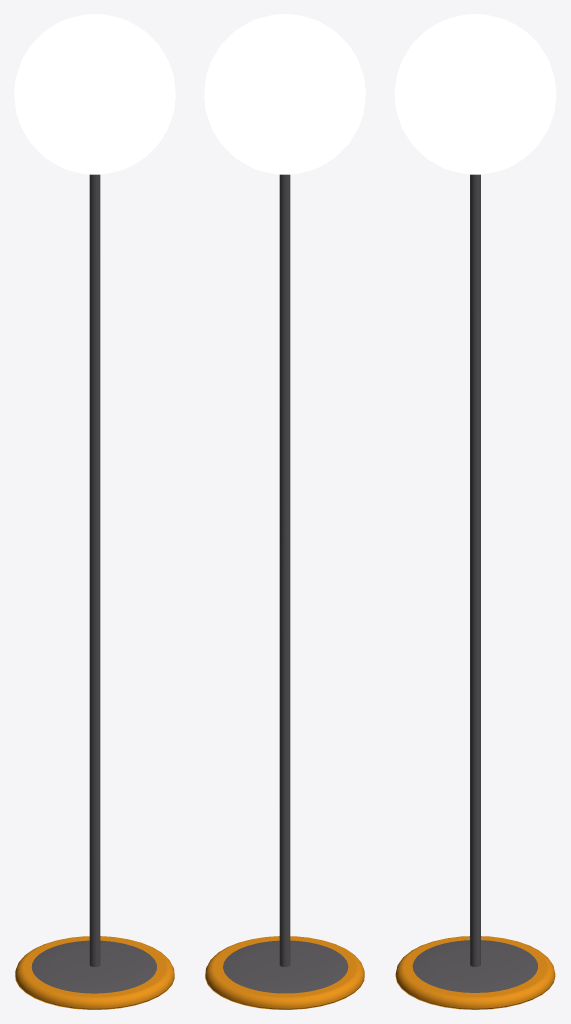
Rendered from lamparaDePie.glb.
3 views of the same model, side by side, from view 1: azimuth 30°, elevation 25°; view 2: azimuth 150°, elevation 25°; view 3: azimuth 270°, elevation 25° (orthographic).
Parts seen in each view (by area): view 1: NurbsPath.004, NurbsPath.001, NurbsPath.005, Circle.001; view 2: NurbsPath.004, NurbsPath.001, NurbsPath.005, Circle.001; view 3: NurbsPath.004, NurbsPath.001, NurbsPath.005, Circle.001.
Boxes of the visible parts, left/top/right/bottom form: NurbsPath.004: left=14, top=14, right=175, bottom=174; NurbsPath.001: left=89, top=174, right=100, bottom=966; NurbsPath.005: left=31, top=940, right=156, bottom=993; Circle.001: left=15, top=936, right=174, bottom=1009; NurbsPath.004: left=204, top=14, right=365, bottom=174; NurbsPath.001: left=279, top=174, right=290, bottom=966; NurbsPath.005: left=223, top=940, right=348, bottom=993; Circle.001: left=205, top=936, right=364, bottom=1009; NurbsPath.004: left=394, top=14, right=556, bottom=174; NurbsPath.001: left=470, top=174, right=480, bottom=966; NurbsPath.005: left=412, top=940, right=537, bottom=992; Circle.001: left=395, top=936, right=555, bottom=1009.
Size of the model in its own units: 0.1824 by 1.19 by 0.1824.
